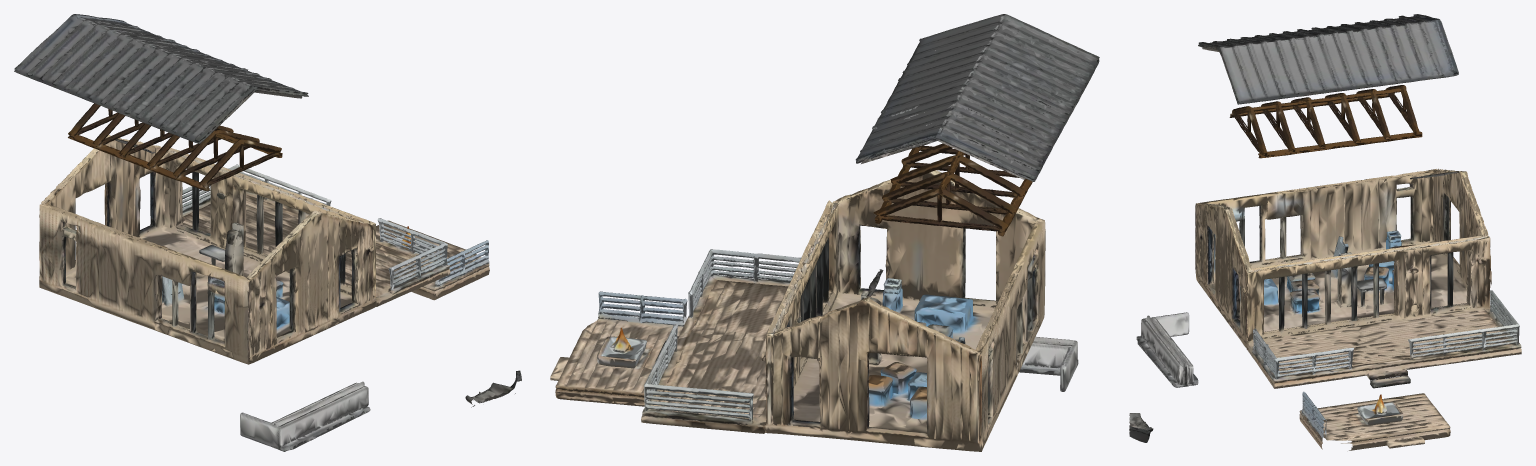
The model's file is cottage-assembled.glb.
3 views of the same model, side by side, from view 1: azimuth 30°, elevation 25°; view 2: azimuth 150°, elevation 25°; view 3: azimuth 270°, elevation 25° (orthographic). The views are drawn at different scales.
Visible parts, largest first — view 1: cottage-main-assembled; view 2: cottage-main-assembled; view 3: cottage-main-assembled.
Boxes of the visible parts, x1,y1,x2,y2 form: cottage-main-assembled: (14, 14, 521, 451); cottage-main-assembled: (550, 14, 1099, 451); cottage-main-assembled: (1129, 14, 1521, 450).
Bounding box in the file's own units: 0.4274 × 0.3171 × 0.3758.
1 material, 1 textured.
